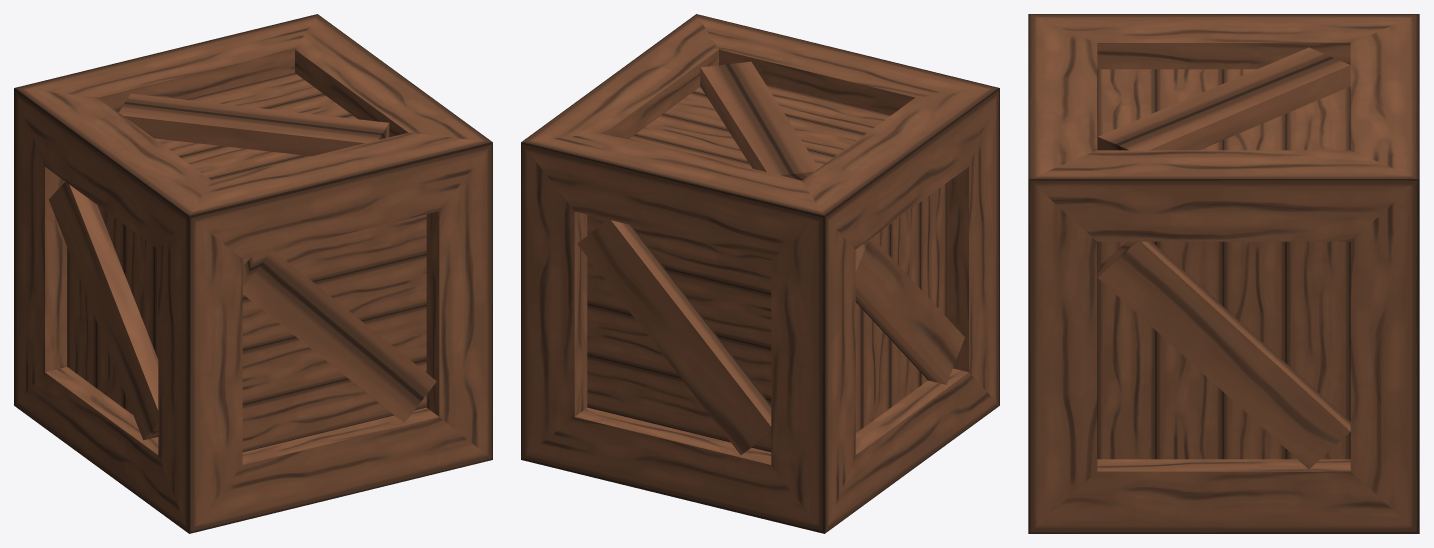
File: crate.obj
3 renders of one model, left to right at view 1: azimuth 30°, elevation 25°; view 2: azimuth 150°, elevation 25°; view 3: azimuth 270°, elevation 25°, orthographic. The views are drawn at different scales.
Parts seen in each view (by area): view 1: Cube.001_Cube.004; view 2: Cube.001_Cube.004; view 3: Cube.001_Cube.004.
Part boxes in pixels (bbox=[...]): Cube.001_Cube.004: bbox=[14, 14, 492, 533]; Cube.001_Cube.004: bbox=[521, 14, 999, 533]; Cube.001_Cube.004: bbox=[1028, 14, 1419, 533].
Bounding box in the file's own units: 2 × 2 × 2.
